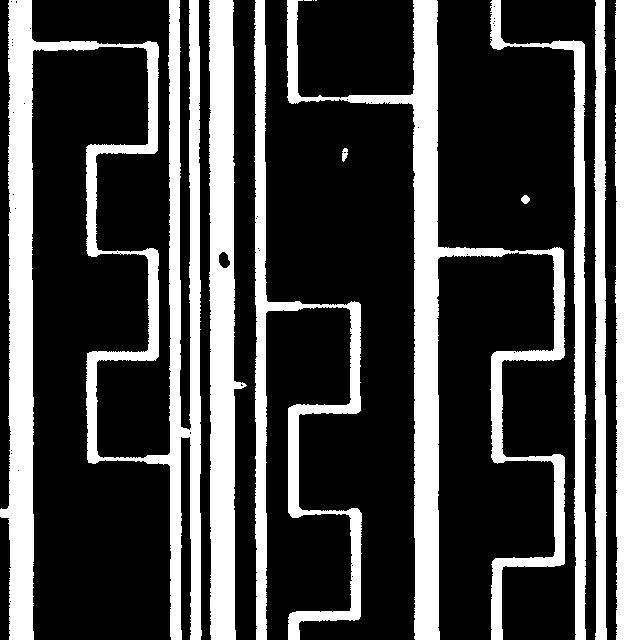copper: (209, 242, 239, 277)
mousebite: (221, 370, 256, 398)
open: (167, 416, 199, 447)
pin-hole: (332, 138, 357, 171), (511, 185, 539, 213)
